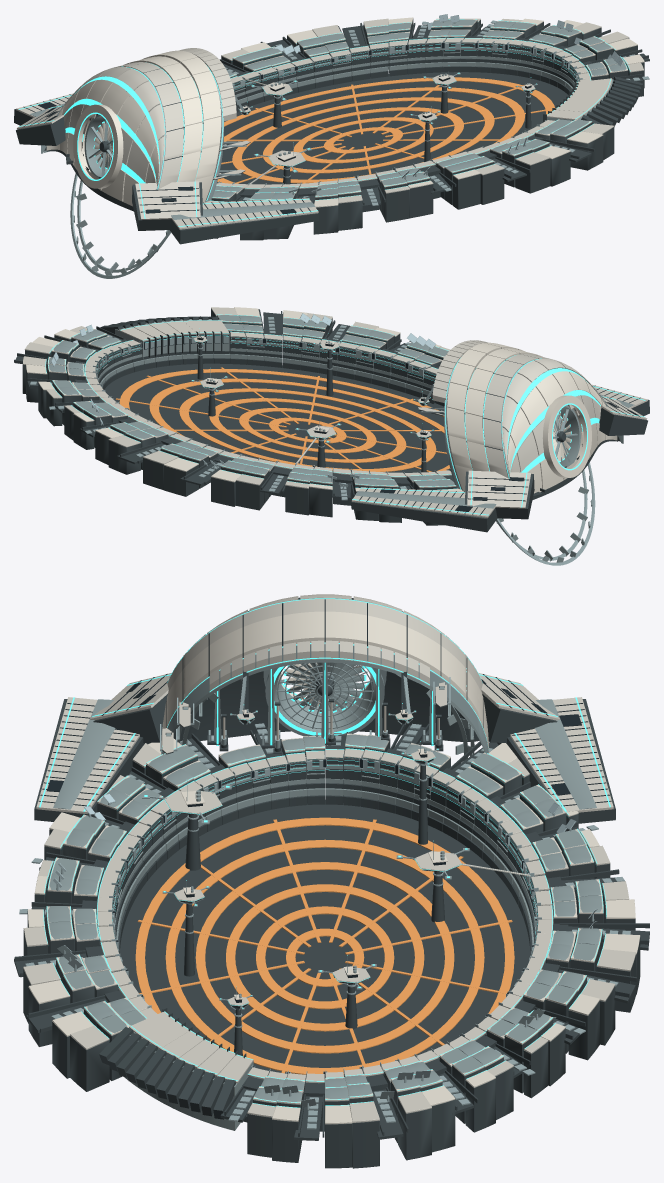
Rendered from Weather_Lung_Assembled.glb.
3 views of the same model, one above another, from view 1: azimuth 30°, elevation 25°; view 2: azimuth 150°, elevation 25°; view 3: azimuth 270°, elevation 25° (orthographic). The views are drawn at different scales.
Parts seen in each view (by area): view 1: Weather_Lung_Sector_06, Weather_Lung_Sector_02, Weather_Lung_Sector_01, Weather_Lung_Sector_00, Weather_Lung_Sector_09, Weather_Lung_Sector_08, Weather_Lung_Sector_10, Weather_Lung_Sector_03, Weather_Lung_Sector_11, Weather_Lung_Sector_07, Weather_Lung_Sector_04, Weather_Lung_Sector_05 (+8 smaller); view 2: Weather_Lung_Sector_06, Weather_Lung_Sector_09, Weather_Lung_Sector_10, Weather_Lung_Sector_02, Weather_Lung_Sector_11, Weather_Lung_Sector_03, Weather_Lung_Sector_00, Weather_Lung_Sector_01, Weather_Lung_Sector_08, Weather_Lung_Sector_04, Weather_Lung_Sector_05, Weather_Lung_Sector_07 (+9 smaller); view 3: Weather_Lung_Sector_06, Weather_Lung_Sector_02, Weather_Lung_Sector_04, Weather_Lung_Sector_09, Weather_Lung_Sector_03, Weather_Lung_Sector_07, Weather_Lung_Sector_00, Weather_Lung_Sector_08, Weather_Lung_Sector_05, Weather_Lung_Sector_10, Weather_Lung_Sector_01, Weather_Lung_Sector_11 (+1 smaller).
Part boxes in pixels (x1,y1,x2,y2): Weather_Lung_Sector_06: [14, 48, 361, 244]; Weather_Lung_Sector_02: [260, 17, 413, 140]; Weather_Lung_Sector_01: [364, 18, 543, 139]; Weather_Lung_Sector_00: [364, 20, 637, 140]; Weather_Lung_Sector_09: [364, 106, 594, 209]; Weather_Lung_Sector_08: [313, 141, 456, 234]; Weather_Lung_Sector_10: [365, 89, 636, 170]; Weather_Lung_Sector_03: [219, 42, 362, 140]; Weather_Lung_Sector_11: [364, 49, 649, 140]; Weather_Lung_Sector_07: [205, 141, 362, 240]; Weather_Lung_Sector_04: [223, 74, 361, 152]; Weather_Lung_Sector_05: [66, 140, 362, 173]; Weather_Lung_Sector_06: [331, 340, 649, 532]; Weather_Lung_Sector_09: [258, 309, 400, 429]; Weather_Lung_Sector_10: [135, 307, 306, 429]; Weather_Lung_Sector_02: [95, 420, 306, 496]; Weather_Lung_Sector_11: [44, 321, 304, 429]; Weather_Lung_Sector_03: [211, 431, 355, 517]; Weather_Lung_Sector_00: [14, 337, 304, 430]; Weather_Lung_Sector_01: [38, 380, 306, 449]; Weather_Lung_Sector_08: [313, 339, 450, 427]; Weather_Lung_Sector_04: [295, 421, 463, 525]; Weather_Lung_Sector_05: [326, 423, 545, 497]; Weather_Lung_Sector_07: [333, 384, 445, 442]; Weather_Lung_Sector_06: [34, 594, 615, 957]; Weather_Lung_Sector_02: [326, 914, 649, 1060]; Weather_Lung_Sector_04: [325, 741, 578, 957]; Weather_Lung_Sector_09: [14, 880, 324, 1046]; Weather_Lung_Sector_03: [325, 813, 635, 958]; Weather_Lung_Sector_07: [88, 738, 324, 957]; Weather_Lung_Sector_00: [318, 955, 478, 1168]; Weather_Lung_Sector_08: [19, 812, 324, 958]; Weather_Lung_Sector_05: [325, 723, 450, 957]; Weather_Lung_Sector_10: [52, 958, 324, 1117]; Weather_Lung_Sector_01: [325, 958, 585, 1132]; Weather_Lung_Sector_11: [178, 959, 324, 1162].
Size of the model in its own units: 27181 by 8705 by 16871.
